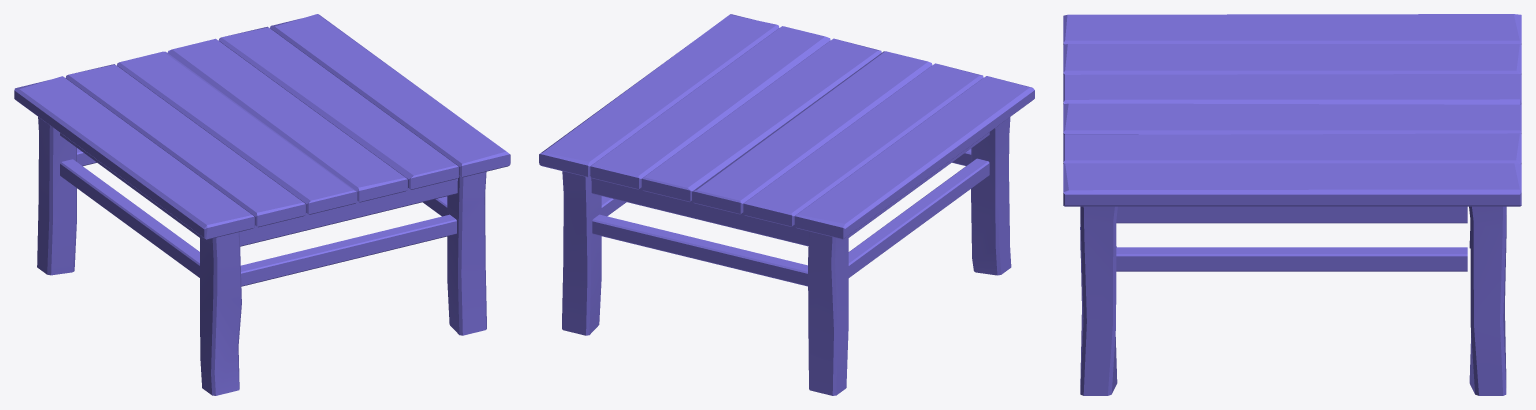
The model's file is TafelLevel3.fbx.
3 renders of one model, left to right at view 1: azimuth 30°, elevation 25°; view 2: azimuth 150°, elevation 25°; view 3: azimuth 270°, elevation 25°, orthographic. The views are drawn at different scales.
Parts seen in each view (by area): view 1: Tafel.001; view 2: Tafel.001; view 3: Tafel.001.
Boxes of the visible parts, x1,y1,x2,y2 form: Tafel.001: (14, 14, 510, 395); Tafel.001: (539, 14, 1034, 395); Tafel.001: (1063, 14, 1521, 395).
Bounding box in the file's own units: 117 × 65.16 × 127.
